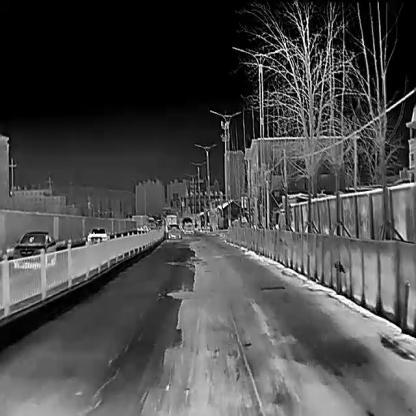car: (12, 231, 56, 267), (87, 228, 109, 242), (165, 215, 176, 232), (168, 226, 180, 237), (185, 223, 193, 233)
